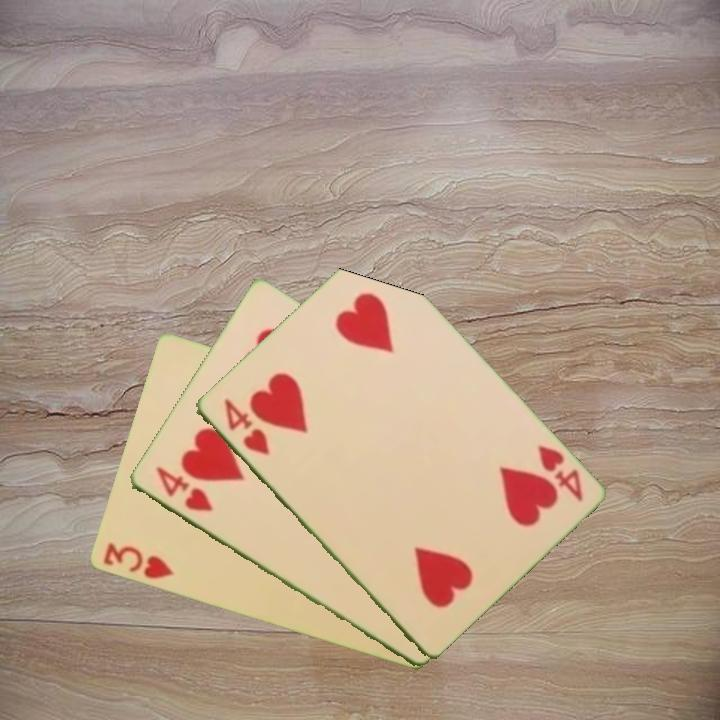3h: (99, 540, 176, 582)
4h: (151, 462, 215, 515), (219, 395, 272, 459), (533, 441, 586, 505)
